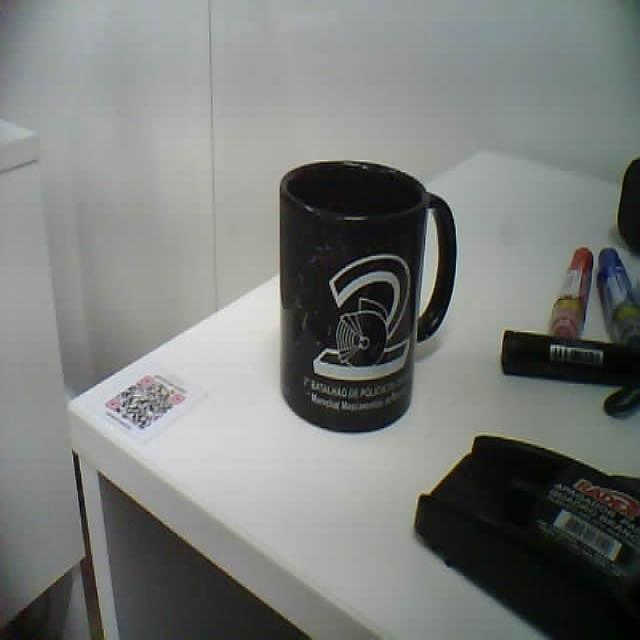caneca: (281, 162, 457, 432)
